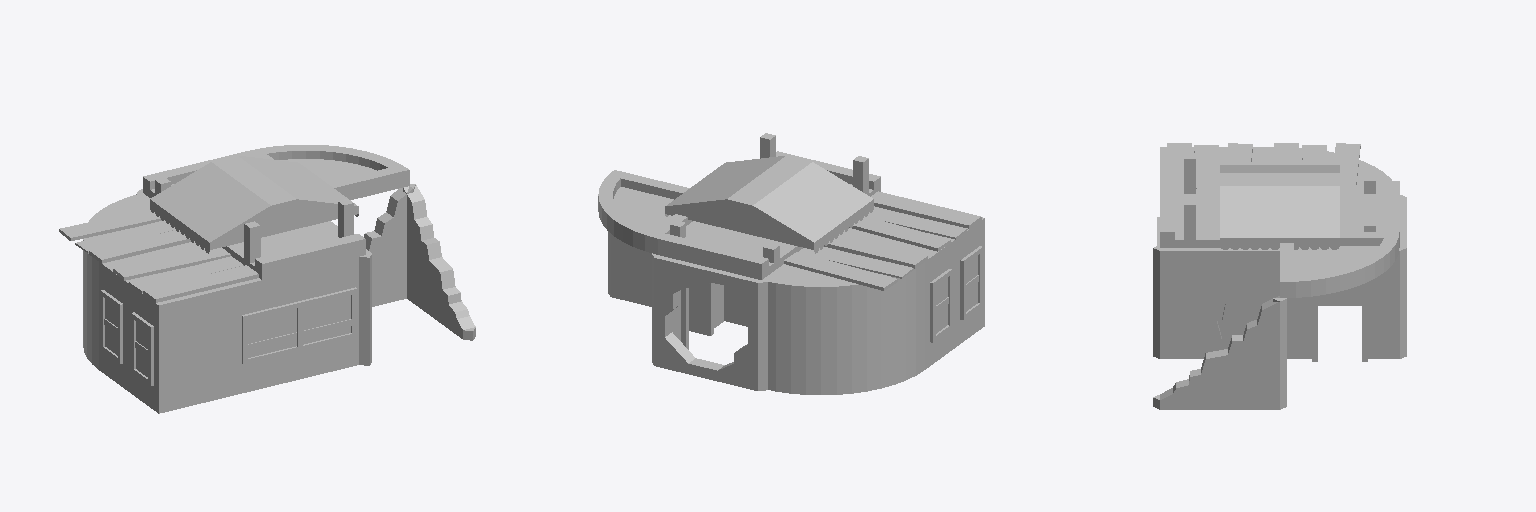
File: Casa 4 Semi Rota.obj
3 renders of one model, left to right at view 1: azimuth 30°, elevation 25°; view 2: azimuth 150°, elevation 25°; view 3: azimuth 270°, elevation 25°, orthographic.
Size of the model in its own units: 3.09 by 1.4 by 2.12.